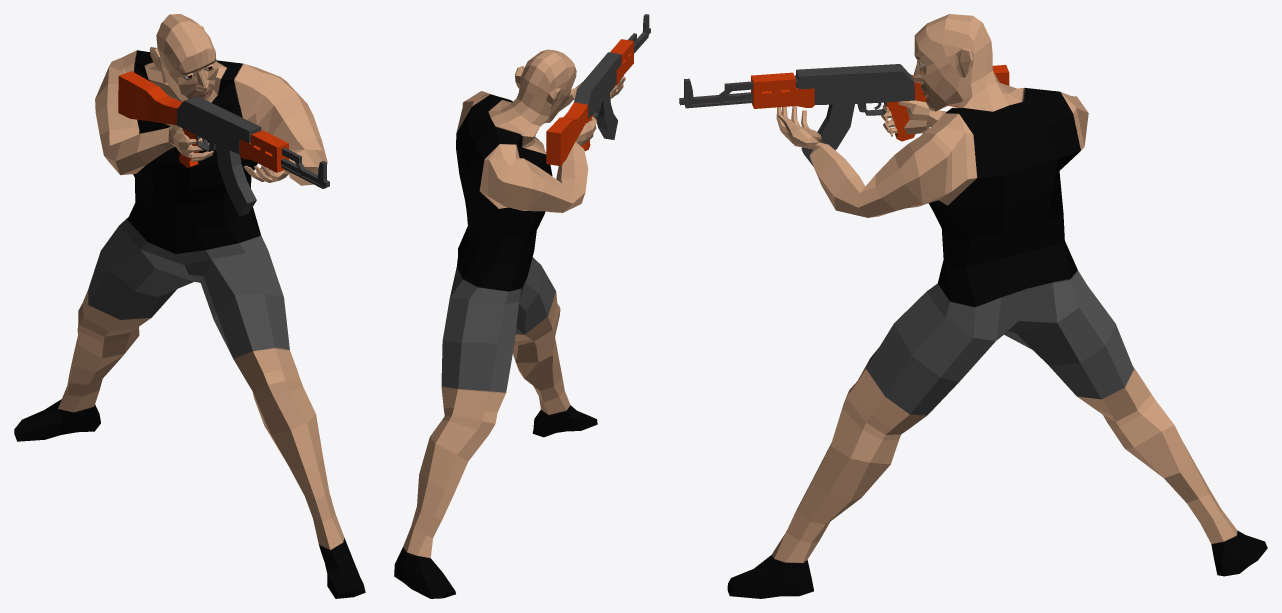
Rendered from PlayerShoot(0).obj.
The picture shows the model from 3 angles, left to right: view 1: azimuth 30°, elevation 25°; view 2: azimuth 150°, elevation 25°; view 3: azimuth 270°, elevation 25°; orthographic projection. The views are drawn at different scales.
Visible parts, largest first — view 1: Plane002, Object001; view 2: Plane002, Object001; view 3: Plane002, Object001.
Part boxes in pixels (x1,y1,x2,y2): Plane002: [14, 14, 365, 598]; Object001: [118, 71, 329, 216]; Plane002: [394, 49, 625, 598]; Object001: [546, 14, 650, 166]; Plane002: [727, 14, 1267, 598]; Object001: [679, 64, 1009, 166].
Bounding box in the file's own units: 542 × 1625 × 1602.
